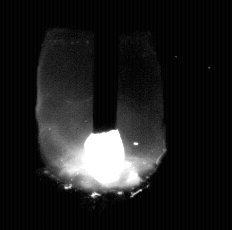arame: (94, 0, 118, 133)
poca: (38, 0, 164, 230)
